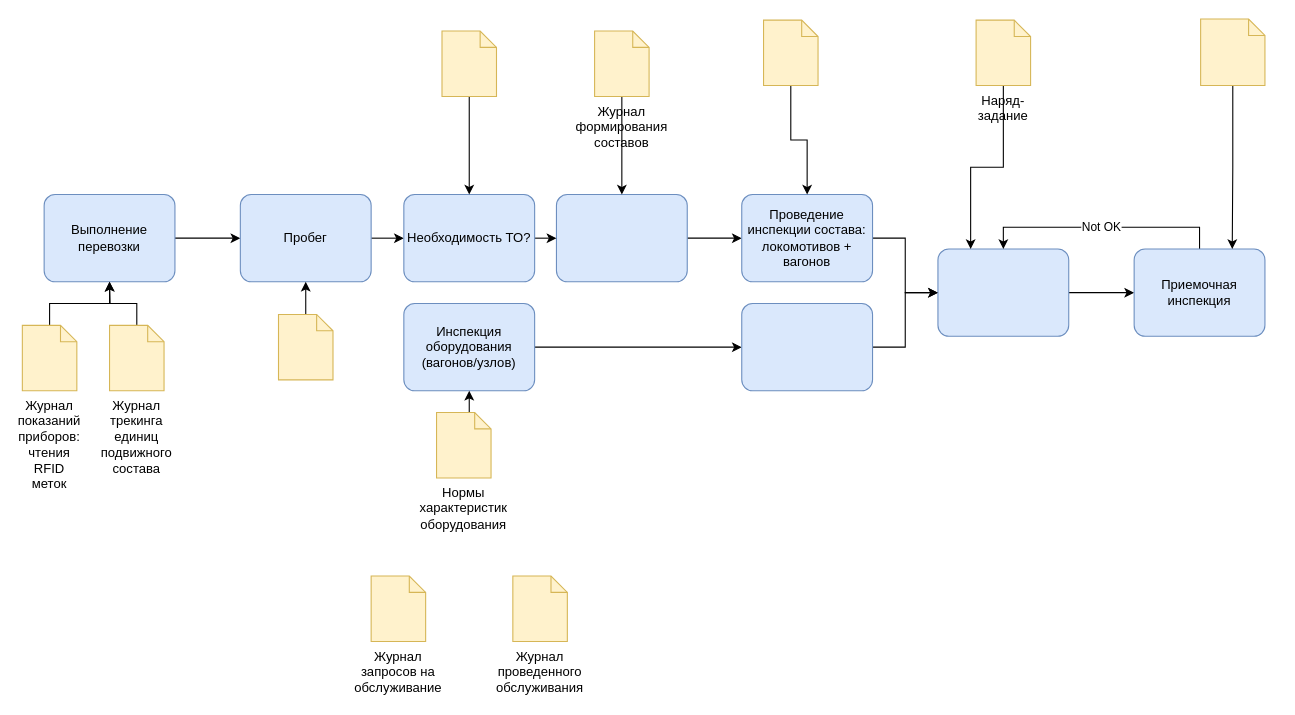
This 1295x715 diagram has some shape labels left out. The box of each missing label's shape, as (x1, y1, x2, y2) in pixels:
Журнал показаний оборудования (пробег/км): (277, 313, 333, 380)
Наряд на инспекцию / диагностику оборудования: (1200, 18, 1265, 86)
Наряд на инспекцию/диагностику оборудования: (762, 19, 818, 86)
Правило регламента по обслуживанию: (441, 30, 496, 96)
Проведение инспекции оборудования (вагонов/узлов): (741, 302, 873, 391)
Проведение обслуживания: (937, 248, 1069, 336)
Формирование состава на обслуживание: (555, 193, 687, 282)
